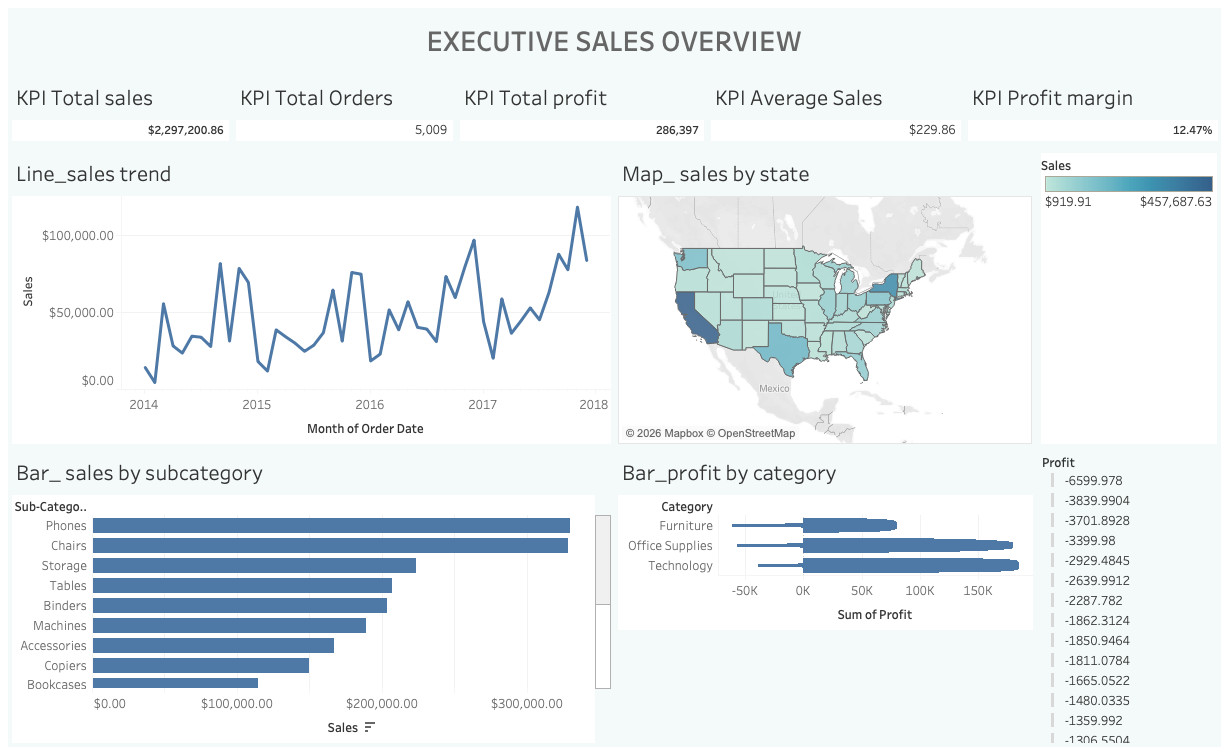

The page's visual inventory and layout, read from the dashboard file:
{"tool":"tableau","page":{"name":"Dashboard 1","canvas":[1000,1000],"units":"permille","ordinal":0},"visuals":[{"type":"text","box":[6.5,10.6,987,86.1]},{"type":"worksheet","title":"KPI Total sales","mark":"Automatic","box":[6.5,96.7,182.2,100.7]},{"type":"worksheet","title":"KPI Total Orders","mark":"Text","box":[188.7,96.7,182.3,100.7]},{"type":"worksheet","title":"KPI Total profit","mark":"Automatic","box":[371,96.7,204.2,100.7]},{"type":"worksheet","title":"KPI Average Sales","mark":"Automatic","box":[575.2,96.7,209.1,100.7]},{"type":"worksheet","title":"KPI Profit margin","mark":"Automatic","box":[784.4,96.7,209.1,100.7]},{"type":"worksheet","title":"Line_sales trend","mark":"Automatic","rows":["Sales"],"cols":["Order Date"],"box":[6.5,197.3,493.5,396]},{"type":"worksheet","title":"Map_ sales by state","mark":"Multipolygon","box":[500,197.3,343.5,396]},{"type":"legend","title":"Map_ sales by state","param":"[federated.14miuj61eowjhe13vby030tmween].[sum:Sales:qk]","box":[843.5,197.3,150,396]},{"type":"worksheet","title":"Bar_ sales by subcategory","mark":"Automatic","rows":["Sub-Category"],"cols":["Sales"],"box":[6.5,593.4,493.5,396]},{"type":"worksheet","title":"Bar_profit by category","mark":"Automatic","rows":["Category"],"cols":["Profit"],"box":[500,593.4,343.5,396]},{"type":"legend","title":"Bar_profit by category","param":"[federated.14miuj61eowjhe13vby030tmween].[none:Profit:ok]","box":[843.5,593.4,150,396]}]}

Visuals, with their boxes on the dashboard's canvas, which has no fixed pixel size, in thousandths of its width and height (x1, y1, x2, y2). These are canvas units, not pixel positions in the 1229x755 screenshot, which may show the page scaled, cropped or inside an application window:
text: x1=6 y1=11 x2=994 y2=97
"KPI Total sales" worksheet: x1=6 y1=97 x2=189 y2=197
"KPI Total Orders" worksheet (Text marks): x1=189 y1=97 x2=371 y2=197
"KPI Total profit" worksheet: x1=371 y1=97 x2=575 y2=197
"KPI Average Sales" worksheet: x1=575 y1=97 x2=784 y2=197
"KPI Profit margin" worksheet: x1=784 y1=97 x2=994 y2=197
"Line_sales trend" worksheet: x1=6 y1=197 x2=500 y2=593
"Map_ sales by state" worksheet (Multipolygon marks): x1=500 y1=197 x2=844 y2=593
"Map_ sales by state" legend: x1=844 y1=197 x2=994 y2=593
"Bar_ sales by subcategory" worksheet: x1=6 y1=593 x2=500 y2=989
"Bar_profit by category" worksheet: x1=500 y1=593 x2=844 y2=989
"Bar_profit by category" legend: x1=844 y1=593 x2=994 y2=989
